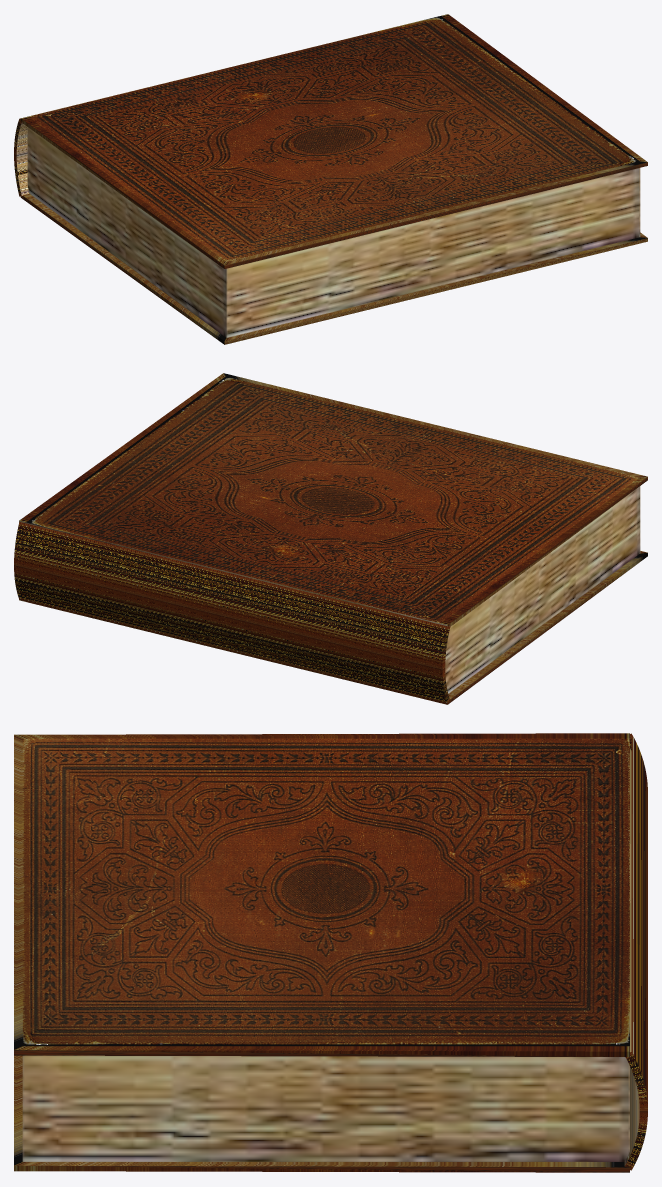
The model's file is Good_Book.FBX.
3 renders of one model, top to bottom at view 1: azimuth 30°, elevation 25°; view 2: azimuth 150°, elevation 25°; view 3: azimuth 270°, elevation 25°, orthographic. The views are drawn at different scales.
Visible parts, largest first — view 1: book; view 2: book; view 3: book.
Boxes of the visible parts, <box> form: book: <box>14,14,647,344</box>; book: <box>14,373,647,704</box>; book: <box>14,733,647,1172</box>.
Bounding box in the file's own units: 48.92 × 8.66 × 41.09.
